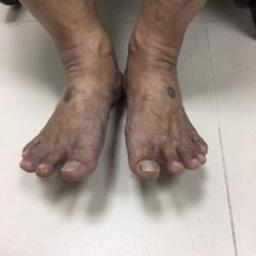Front View -Both Feet-: (15, 14, 226, 200)
